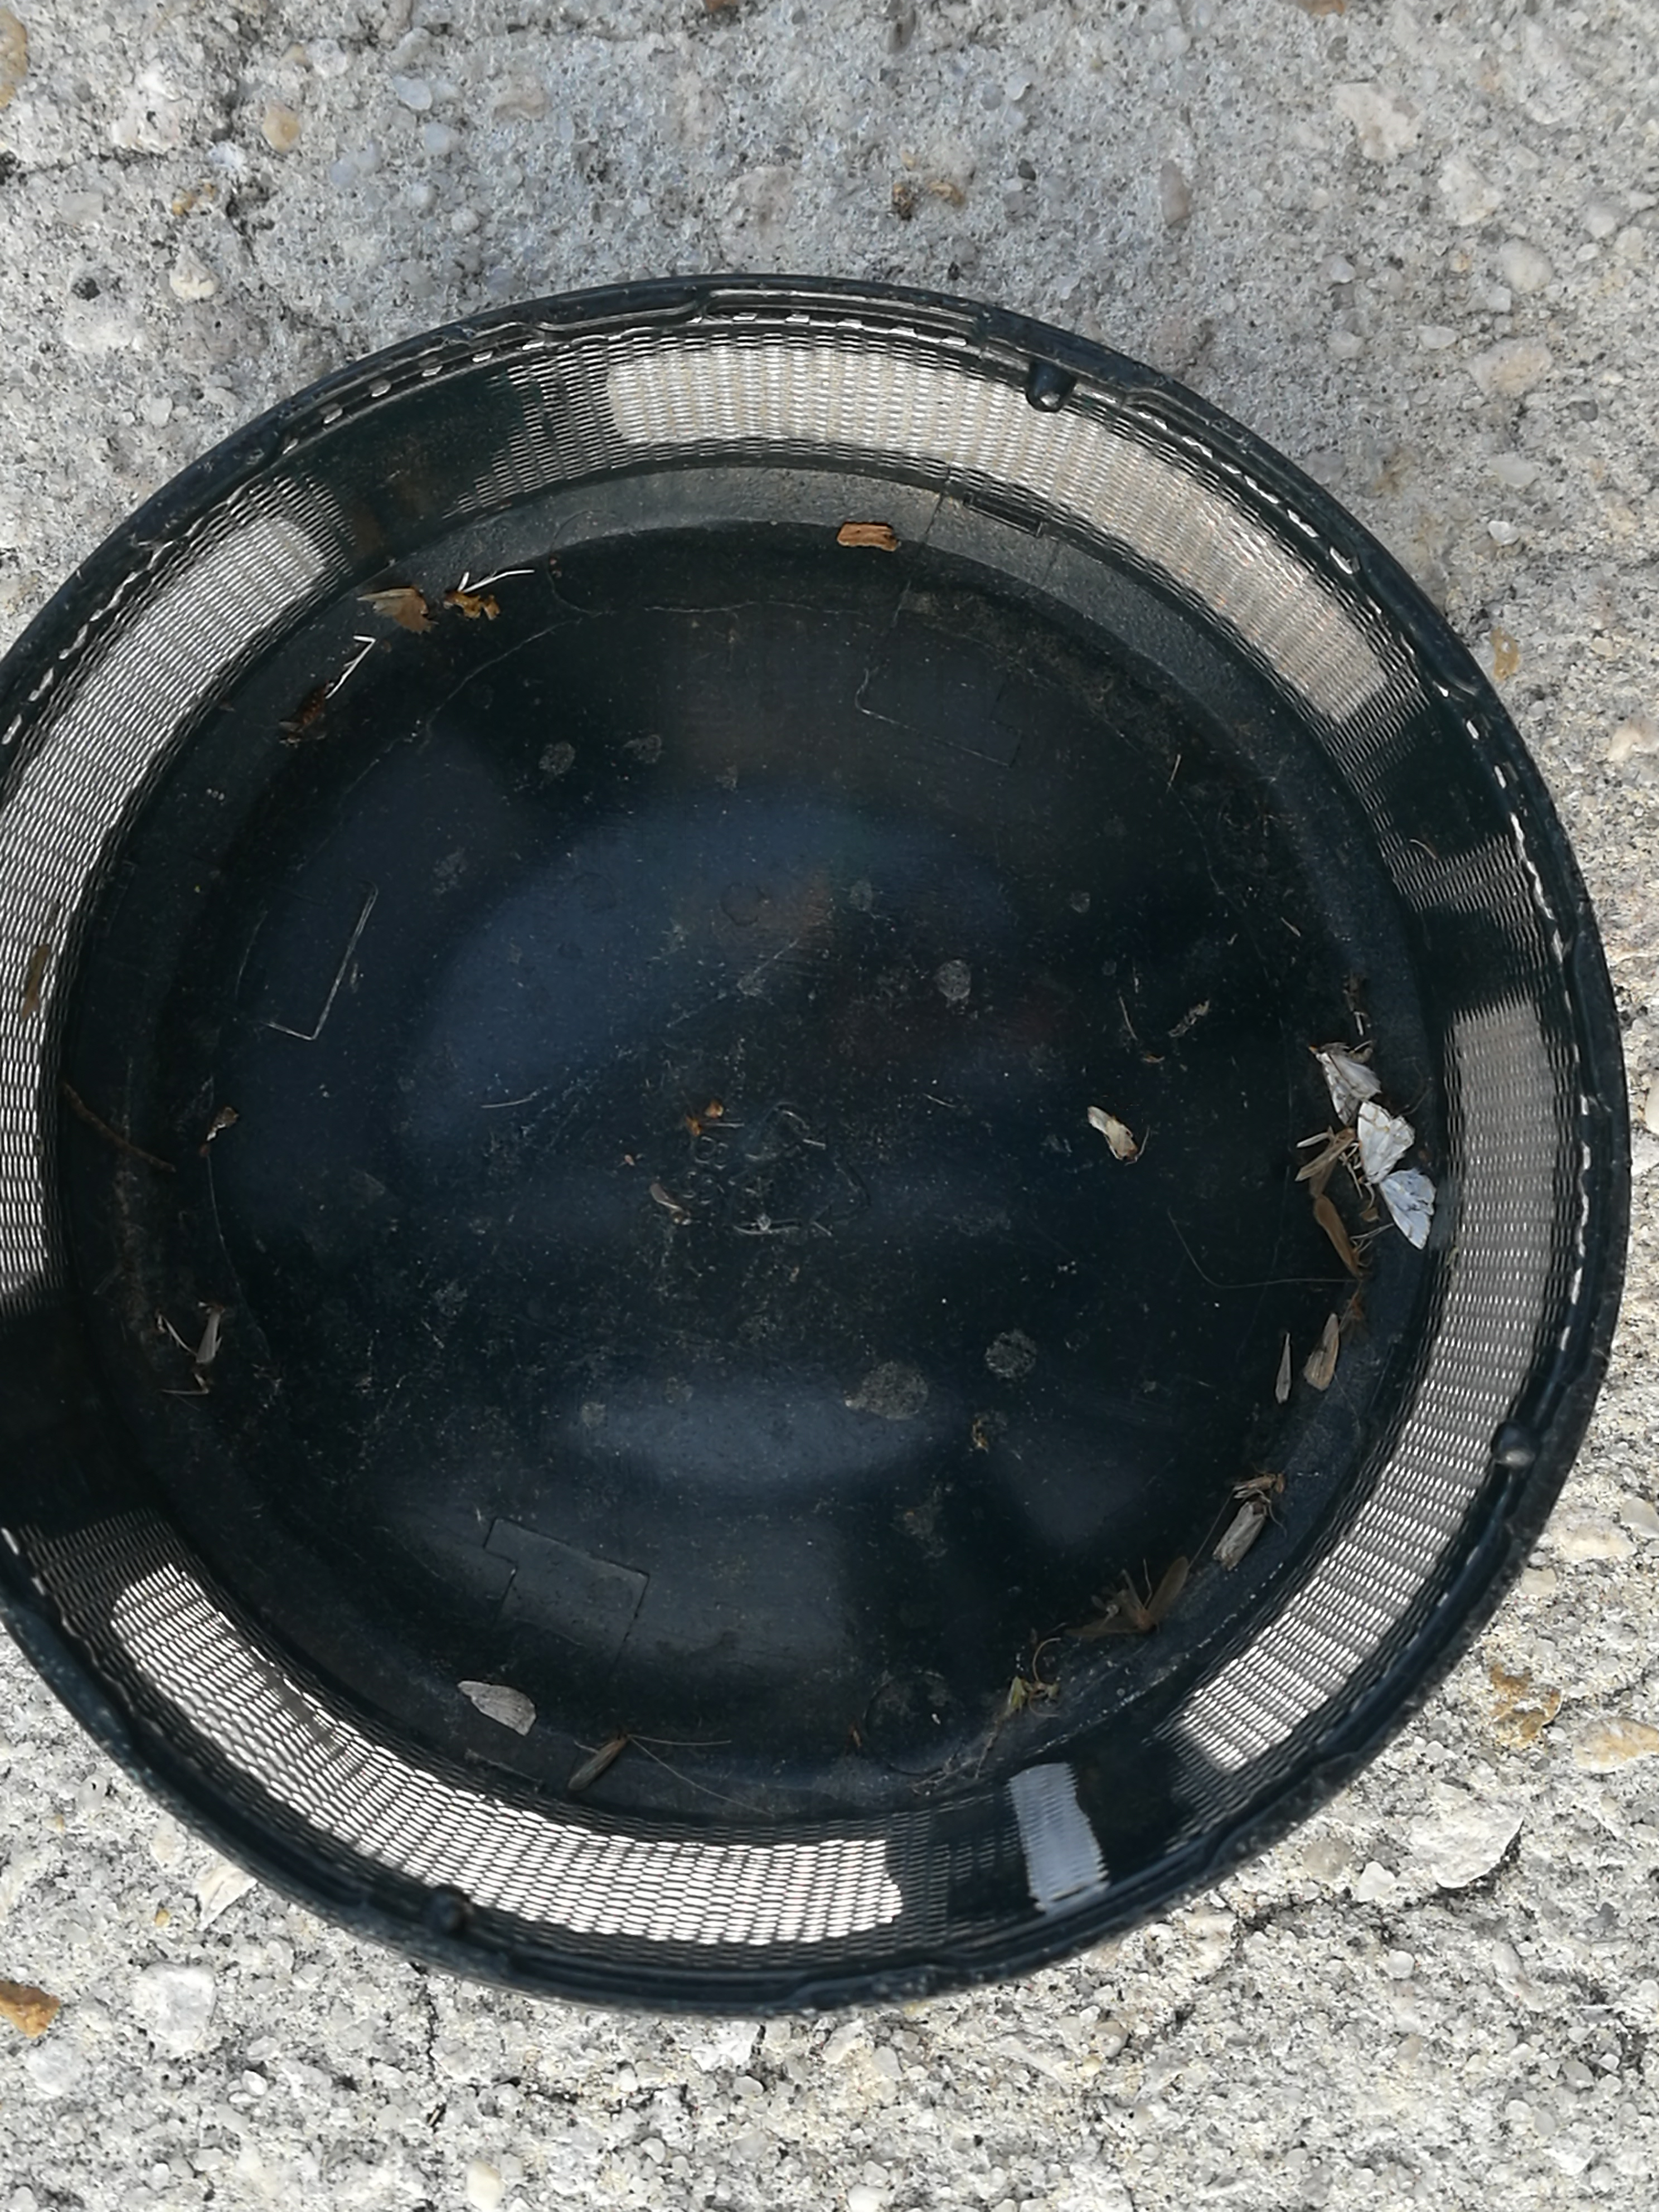mosquito: (1316, 1197, 1364, 1280), (1211, 1503, 1270, 1566), (1291, 1132, 1354, 1184), (570, 1735, 629, 1789), (1234, 1474, 1281, 1498)
moth: (1359, 1101, 1434, 1251), (1066, 1561, 1188, 1639), (1323, 1050, 1382, 1120)
